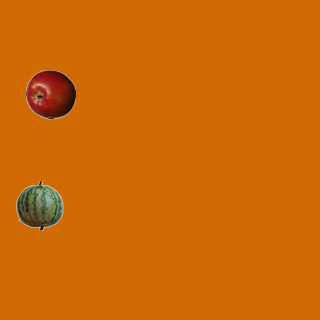Apple Braeburn: (25, 69, 75, 119)
Watermelon: (14, 180, 64, 230)
